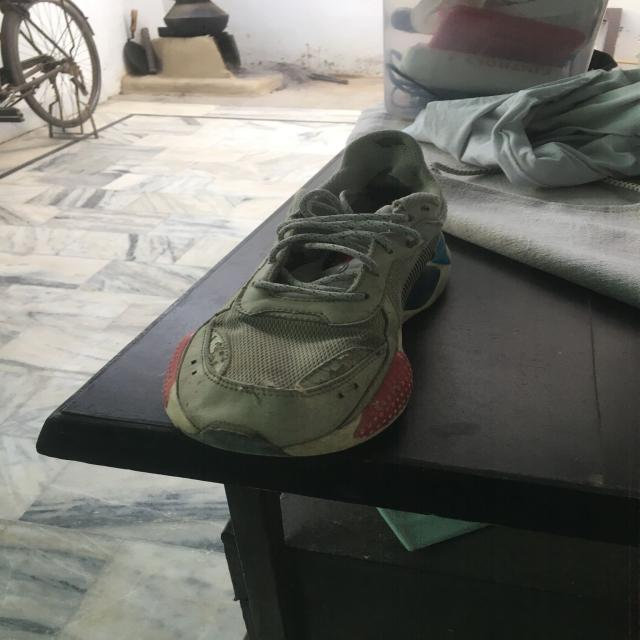shoes: (161, 129, 457, 457)
